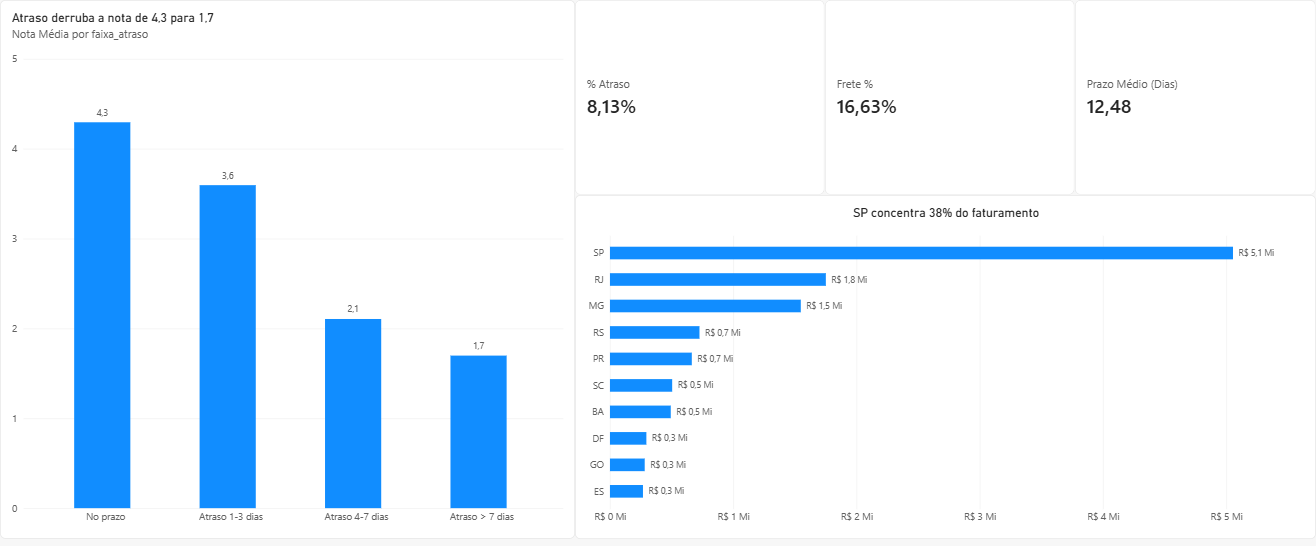

What the dashboard file says about the page in this screenshot:
{"tool":"powerbi","page":{"name":"Página 3","canvas":[1920,1080],"ordinal":2},"visuals":[{"type":"clusteredColumnChart","title":"Atraso derruba a nota de 4,3 para 1,7","fields":{"Category":["vw_pedidos.faixa_atraso"],"Y":["vw_pedidos.Nota Média"]},"box":[0,0,838.9,786.4],"z":0},{"type":"cardVisual","fields":{"Data":["vw_pedidos.% Atraso"]},"box":[838.9,0,364.7,284.5],"z":1},{"type":"cardVisual","fields":{"Data":["vw_pedidos.Prazo Médio"]},"box":[1568.4,0,351.6,284.5],"z":2},{"type":"cardVisual","fields":{"Data":["vw_vendas.Frete %"]},"box":[1203.6,0,364.7,284.5],"z":3},{"type":"barChart","title":"SP concentra 38% do faturamento","fields":{"Category":["vw_pedidos.estado"],"Y":["vw_vendas.Faturamento"]},"box":[838.9,284.5,1081.1,501.9],"z":4}]}

Visuals, with their boxes on the page's 1920x1080 design canvas (x1, y1, x2, y2). These are canvas units, not pixel positions in the 1316x546 screenshot, which may show the page scaled, cropped or inside an application window:
"Atraso derruba a nota de 4,3 para 1,7" clusteredColumnChart: box=[0, 0, 839, 786]
cardVisual - vw_pedidos.% Atraso: box=[839, 0, 1204, 284]
cardVisual - vw_pedidos.Prazo Médio: box=[1568, 0, 1920, 284]
cardVisual - vw_vendas.Frete %: box=[1204, 0, 1568, 284]
"SP concentra 38% do faturamento" barChart: box=[839, 284, 1920, 786]
